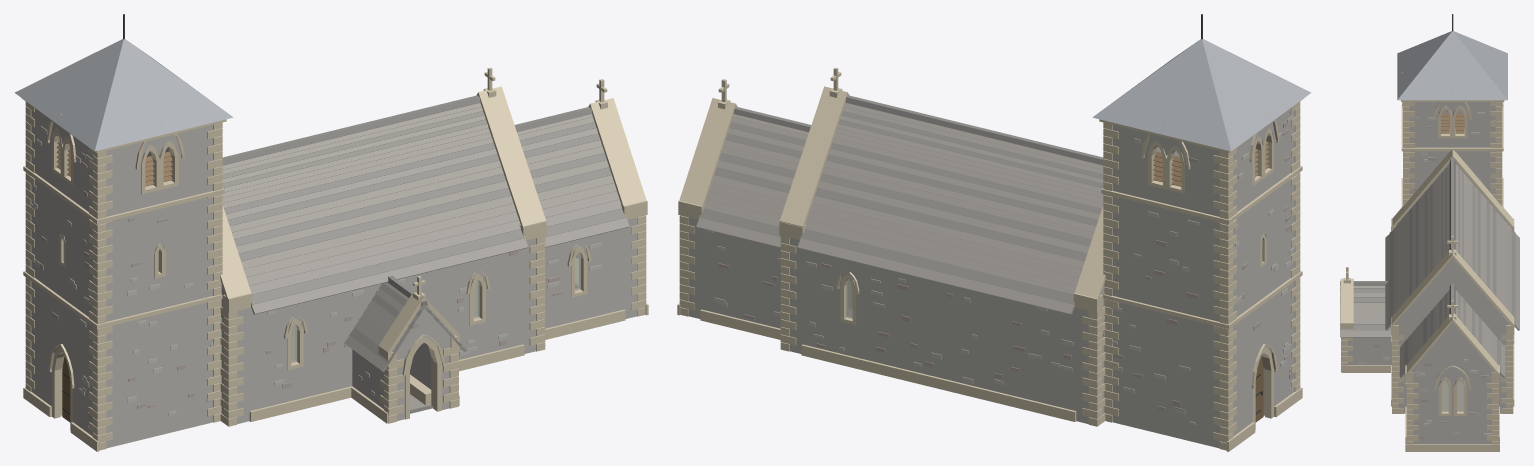
The model's file is coastal-g.glb.
The picture shows the model from 3 angles, left to right: view 1: azimuth 30°, elevation 25°; view 2: azimuth 150°, elevation 25°; view 3: azimuth 270°, elevation 25°; orthographic projection. The views are drawn at different scales.
Parts seen in each view (by area): view 1: rubble (×11), dress (×10), roof (×5), roof2 (×5), lead, timber; view 2: rubble (×10), dress (×10), roof (×4), roof2 (×4), lead, timber; view 3: rubble (×5), dress (×7), roof (×5), roof2 (×5), lead, glass, timber, floor, rubble2.
Boxes of the visible parts, bbox=[...] form: rubble (×11): bbox=[31, 108, 637, 448]; dress (×10): bbox=[23, 67, 648, 451]; roof (×5): bbox=[222, 103, 629, 371]; roof2 (×5): bbox=[222, 95, 626, 363]; lead: bbox=[14, 39, 233, 151]; timber: bbox=[56, 141, 172, 186]; rubble (×10): bbox=[688, 108, 1294, 448]; dress (×10): bbox=[677, 67, 1302, 451]; roof (×4): bbox=[696, 103, 1103, 314]; roof2 (×4): bbox=[699, 95, 1103, 304]; lead: bbox=[1092, 39, 1311, 151]; timber: bbox=[1153, 141, 1269, 186]; rubble (×5): bbox=[1348, 102, 1512, 444]; dress (×7): bbox=[1340, 72, 1514, 451]; roof (×5): bbox=[1340, 164, 1519, 378]; roof2 (×5): bbox=[1340, 158, 1515, 372]; lead: bbox=[1397, 31, 1507, 100]; glass: bbox=[1441, 381, 1463, 411]; timber: bbox=[1441, 113, 1464, 133]; floor: bbox=[1442, 381, 1463, 406]; rubble2: bbox=[1413, 359, 1491, 434].
Bounding box in the file's own units: 24.55 × 16.7 × 9.9.
